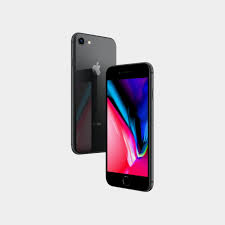iphone8: (102, 60, 157, 194)
